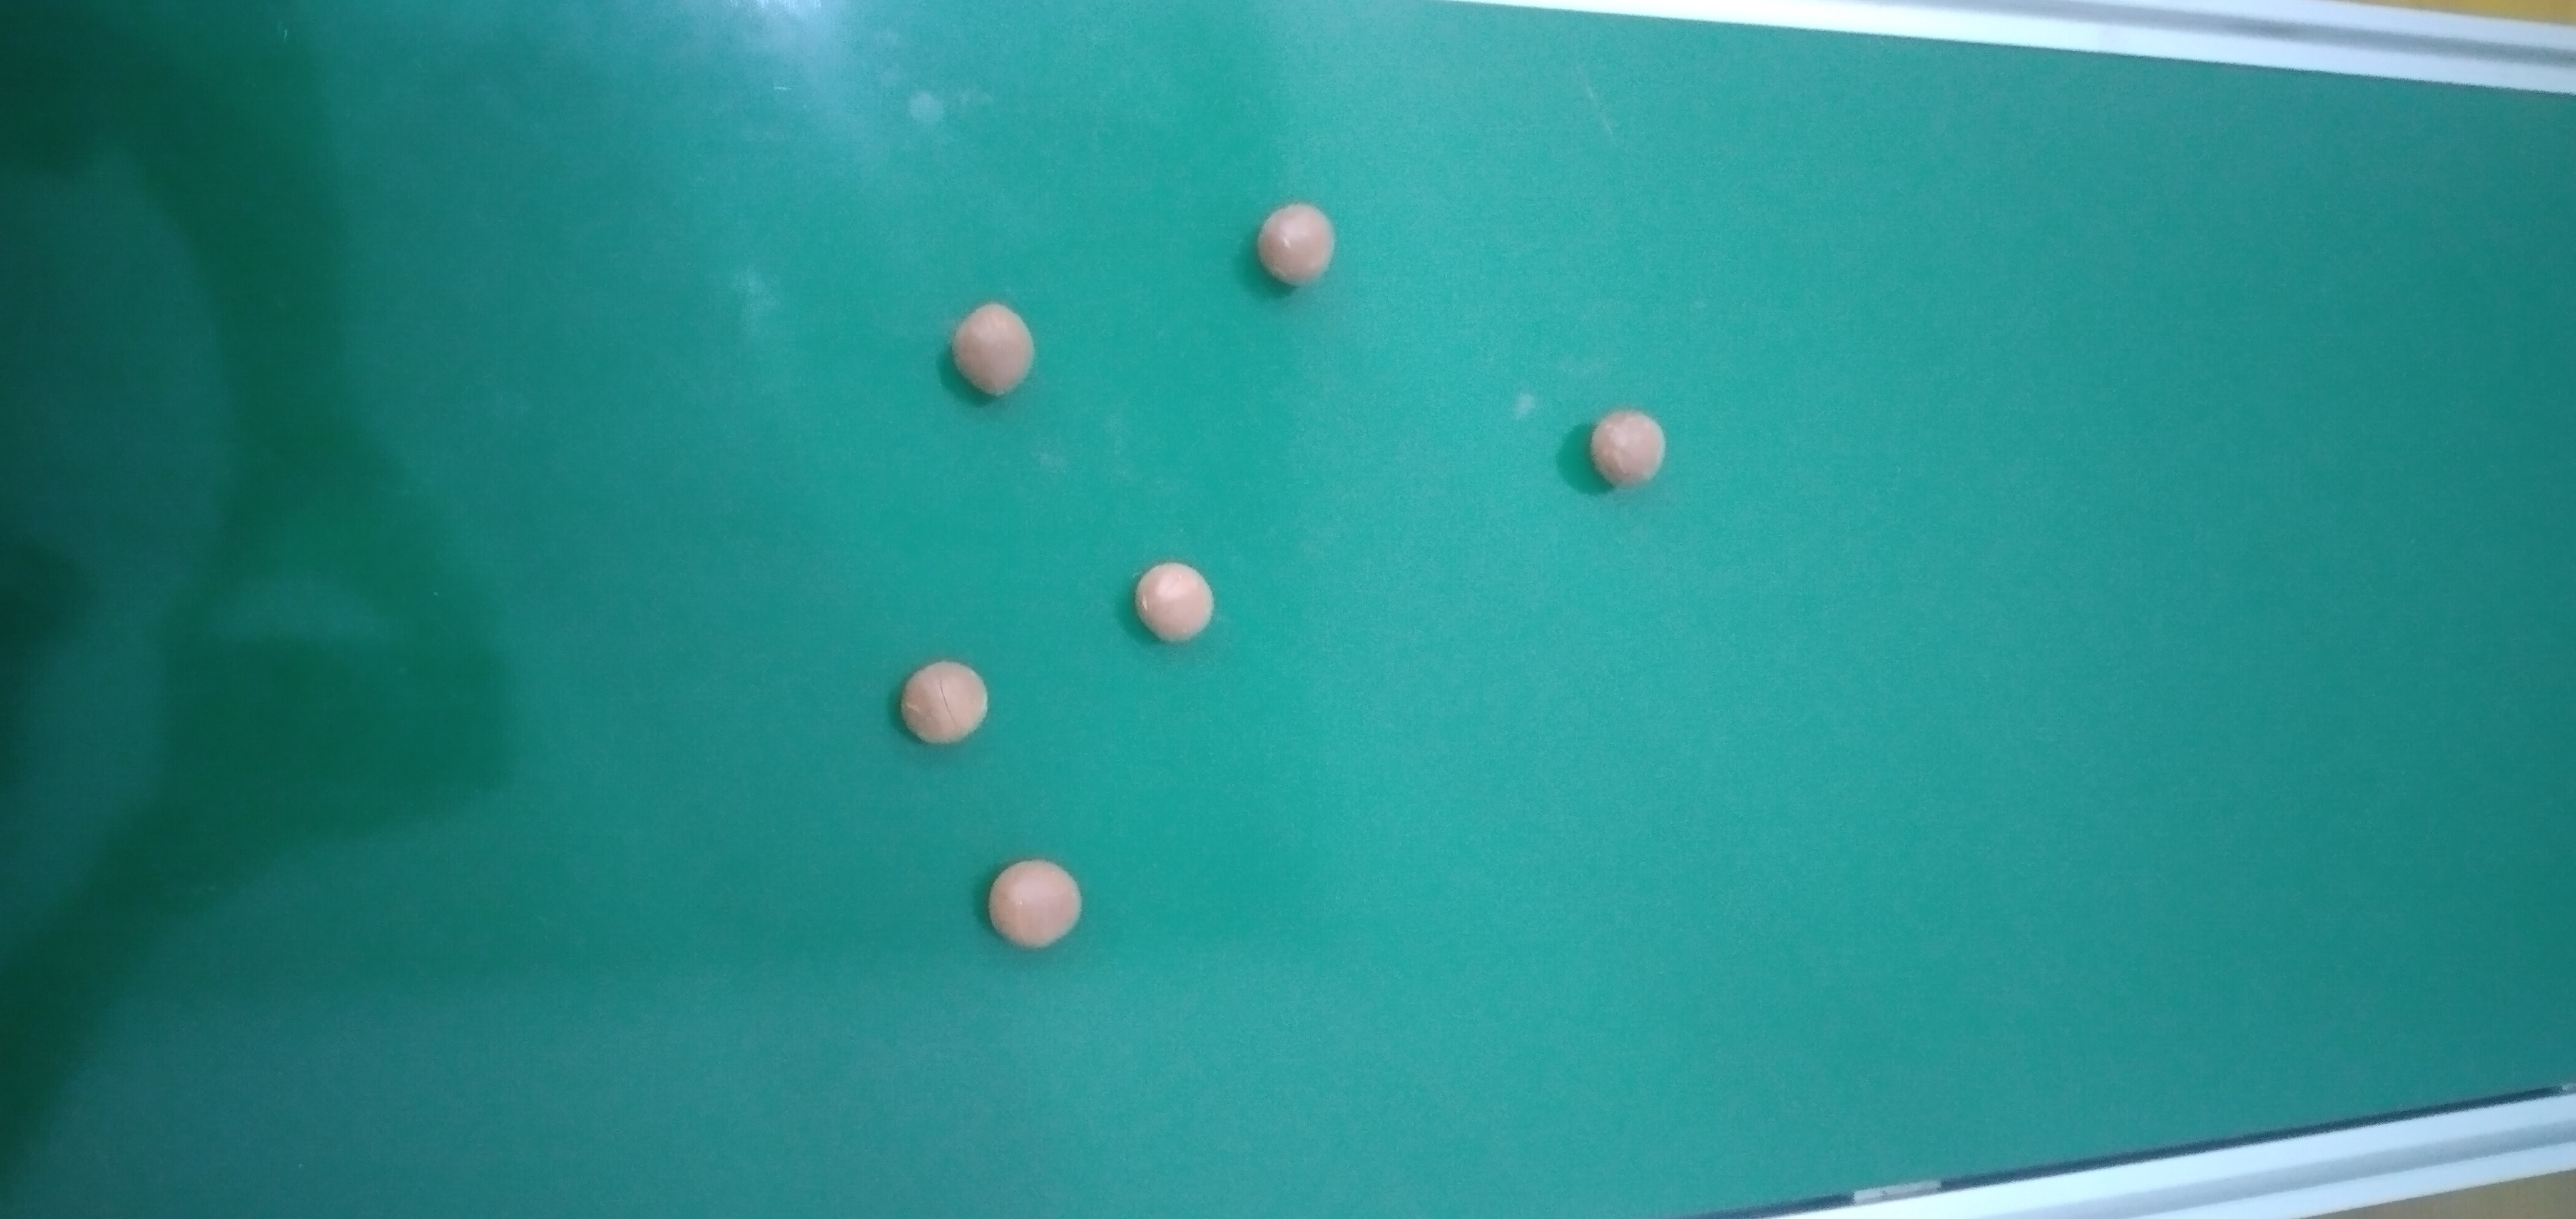mac: (946, 299, 1035, 401), (986, 854, 1081, 948), (902, 659, 984, 744), (1132, 560, 1216, 642), (1257, 207, 1332, 287), (1587, 411, 1666, 486)
